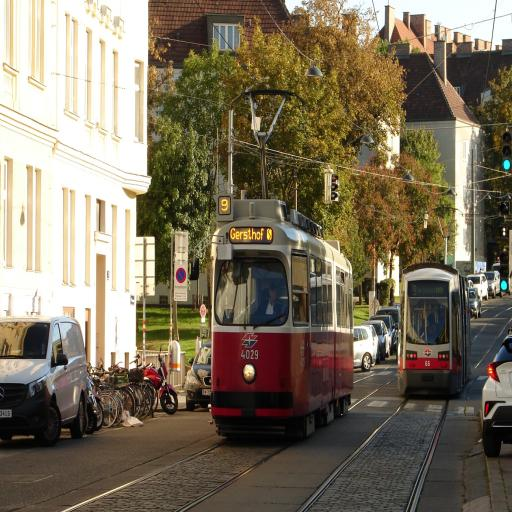E2-Tram: (210, 190, 356, 438)
ULF: (397, 263, 472, 402)
